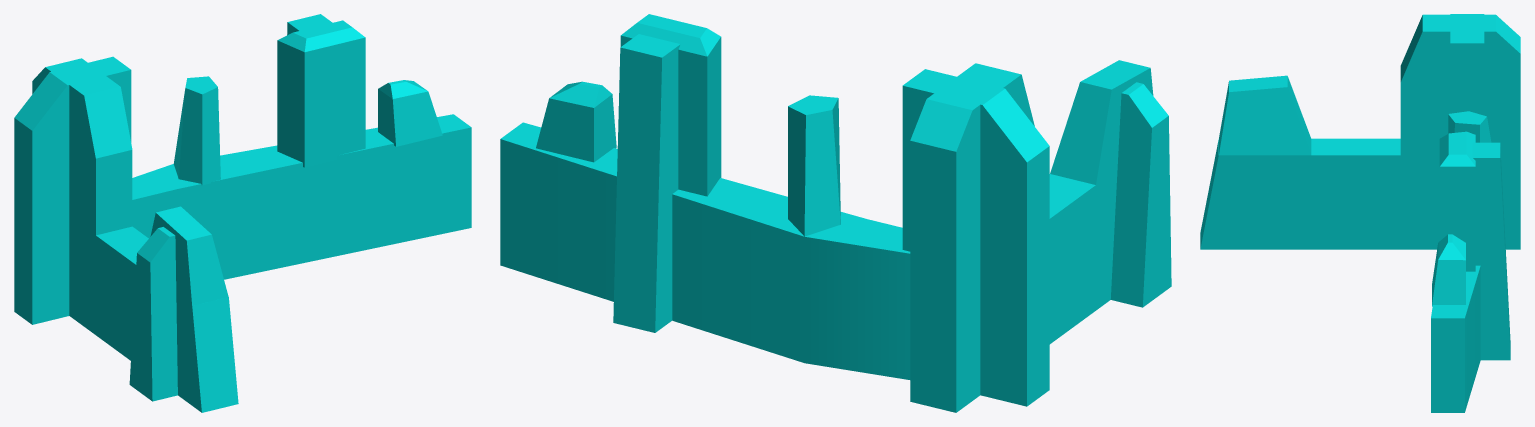
The model's file is SM_Bld_Ruin_05_Collision.fbx.
The picture shows the model from 3 angles, left to right: view 1: azimuth 30°, elevation 25°; view 2: azimuth 150°, elevation 25°; view 3: azimuth 270°, elevation 25°; orthographic projection. The views are drawn at different scales.
Visible parts, largest first — view 1: SM_Bld_Ruin_05_Collision; view 2: SM_Bld_Ruin_05_Collision; view 3: SM_Bld_Ruin_05_Collision.
Boxes of the visible parts, x1,y1,x2,y2 form: SM_Bld_Ruin_05_Collision: (14,14,471,412); SM_Bld_Ruin_05_Collision: (500,14,1171,412); SM_Bld_Ruin_05_Collision: (1200,14,1520,412).
Bounding box in the file's own units: 398 × 205 × 273.
